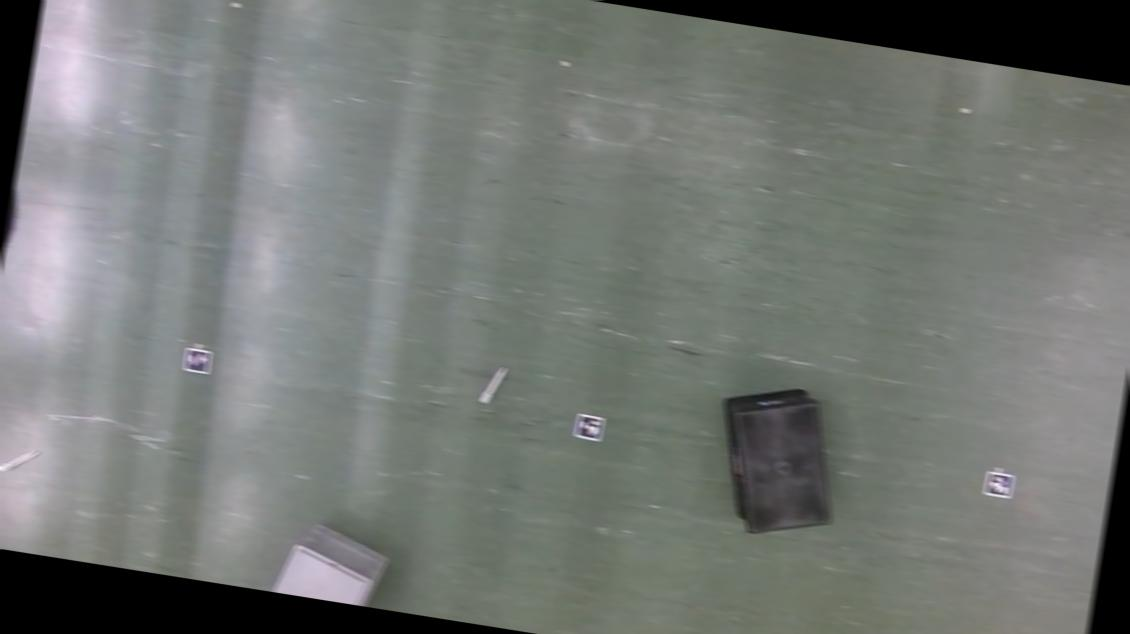probes: (0, 440, 40, 475), (481, 364, 505, 404)
rako: (704, 374, 852, 544), (269, 516, 393, 608)
